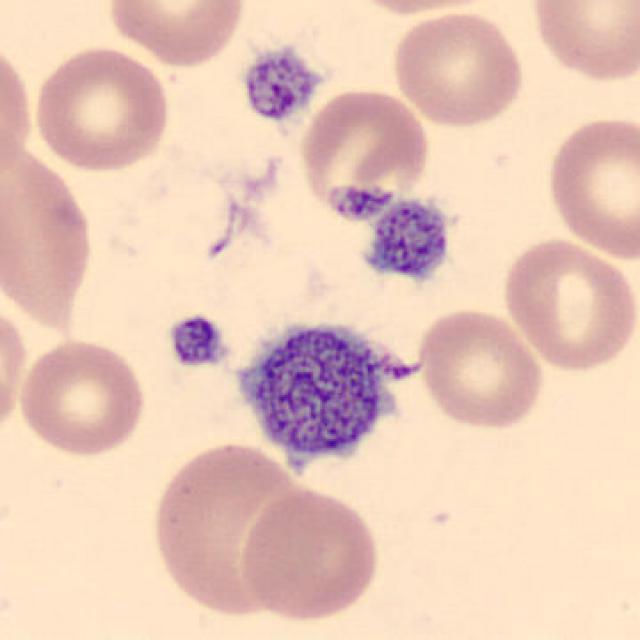Platelets: (222, 305, 427, 490), (361, 194, 455, 287), (236, 44, 324, 125), (323, 174, 402, 227), (163, 312, 230, 372)
RBC: (146, 438, 314, 622), (0, 125, 100, 335), (236, 485, 384, 624), (295, 83, 434, 224), (29, 40, 174, 174), (498, 234, 636, 374), (386, 7, 530, 131), (414, 303, 548, 434), (14, 335, 151, 460), (542, 109, 638, 261), (103, 0, 249, 69), (524, 0, 640, 85), (0, 37, 36, 180), (0, 298, 30, 446), (340, 0, 508, 18)
